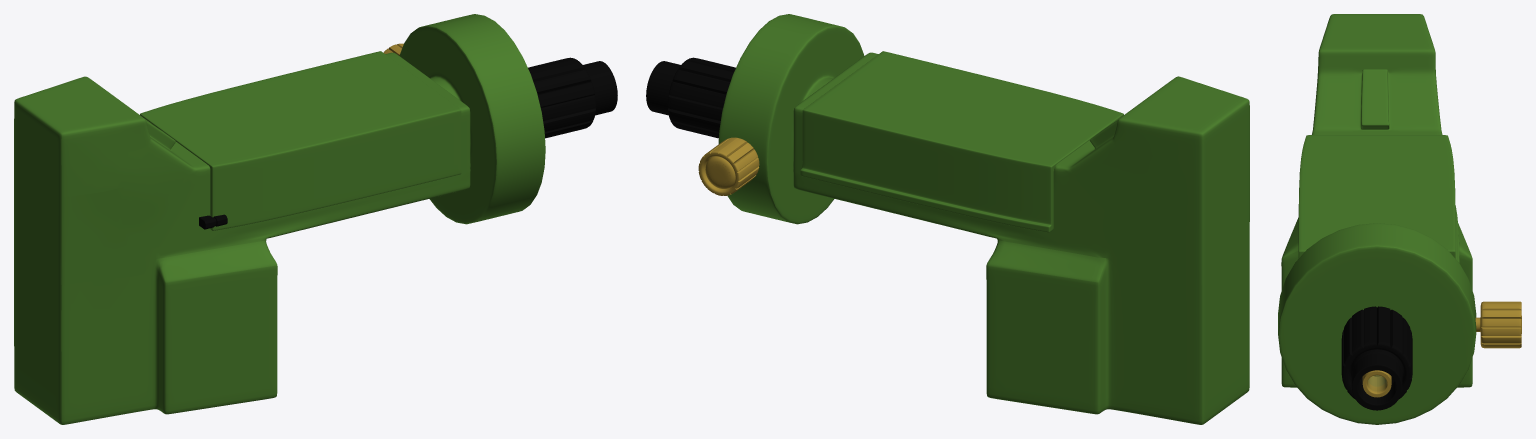
The model's file is asd.FBX.
3 renders of one model, left to right at view 1: azimuth 30°, elevation 25°; view 2: azimuth 150°, elevation 25°; view 3: azimuth 270°, elevation 25°, orthographic. The views are drawn at different scales.
Parts seen in each view (by area): view 1: osnova, krishka, shtoto, krutilka; view 2: osnova, krishka, shtoto, krutilka, uvelishite; view 3: shtoto, osnova, krishka, krutilka, uvelishite, glazok.
Boxes of the visible parts, x1,y1,x2,y2 form: osnova: (14, 52, 470, 424); krishka: (140, 51, 461, 230); shtoto: (399, 14, 545, 224); krutilka: (528, 57, 617, 138); osnova: (793, 52, 1249, 424); krishka: (800, 51, 1123, 232); shtoto: (718, 14, 864, 224); krutilka: (646, 57, 735, 138); uvelishite: (698, 137, 759, 195); shtoto: (1278, 223, 1476, 424); osnova: (1281, 14, 1472, 387); krishka: (1298, 135, 1459, 262); krutilka: (1341, 306, 1412, 410); uvelishite: (1475, 301, 1521, 348); glazok: (1362, 370, 1391, 397).
Size of what is drawn, in the model's own units: 590 by 291 by 226.
